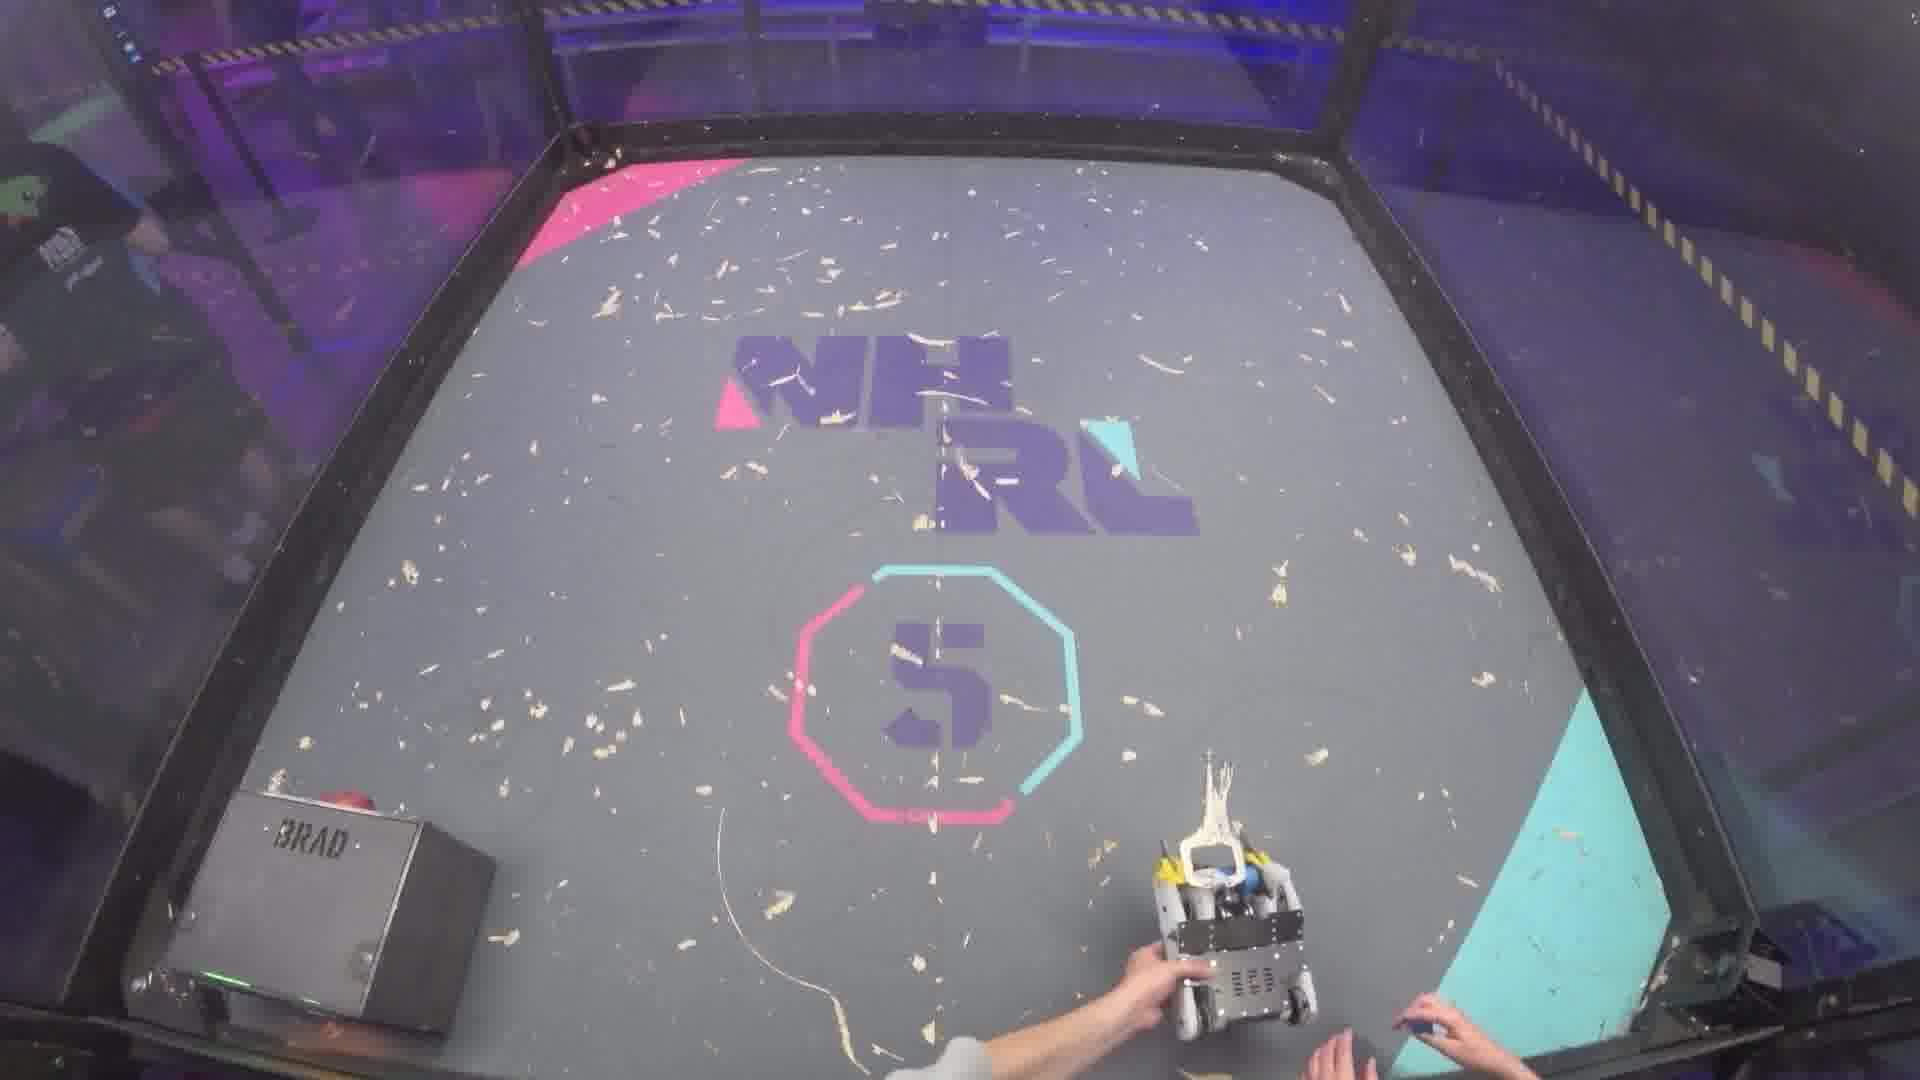combatbot: (1153, 829, 1319, 1047)
housebot: (165, 781, 497, 1046)
